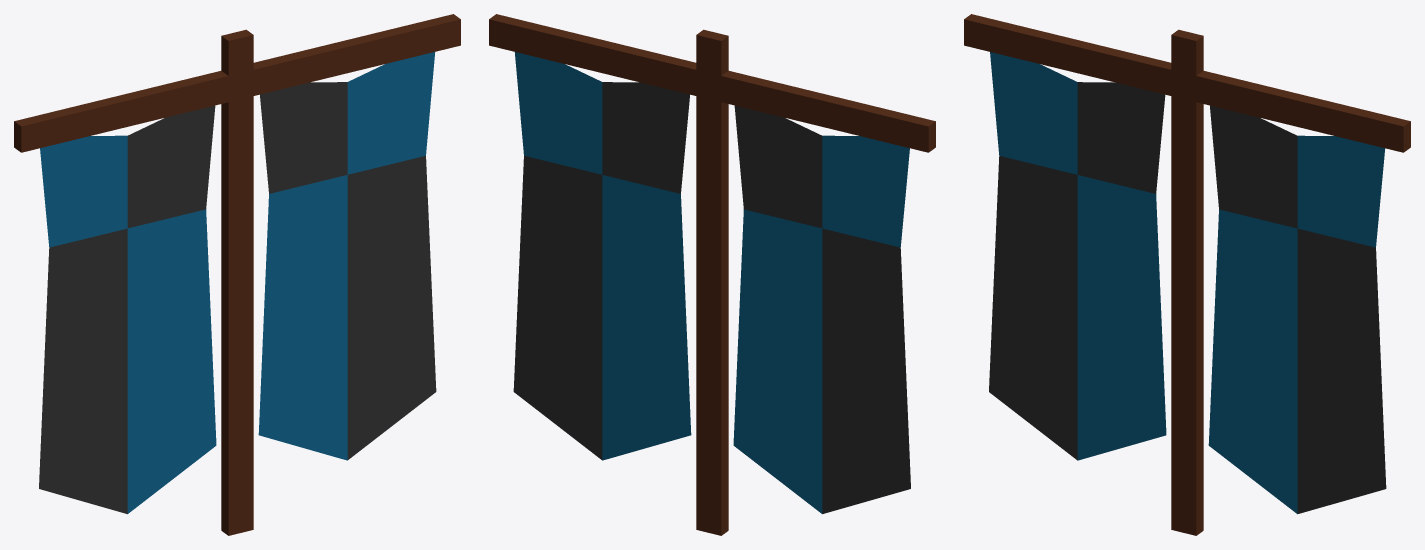
The model's file is EstandarteGuerreros.fbx.
3 renders of one model, left to right at view 1: azimuth 30°, elevation 25°; view 2: azimuth 150°, elevation 25°; view 3: azimuth 330°, elevation 25°, orthographic.
Parts seen in each view (by area): view 1: Estandarte.001; view 2: Estandarte.001; view 3: Estandarte.001.
Boxes of the visible parts, x1=… form: Estandarte.001: x1=14, y1=14, x2=460, y2=535; Estandarte.001: x1=489, y1=14, x2=935, y2=535; Estandarte.001: x1=964, y1=14, x2=1410, y2=535.
Bounding box in the file's own units: 175 × 188 × 5.
